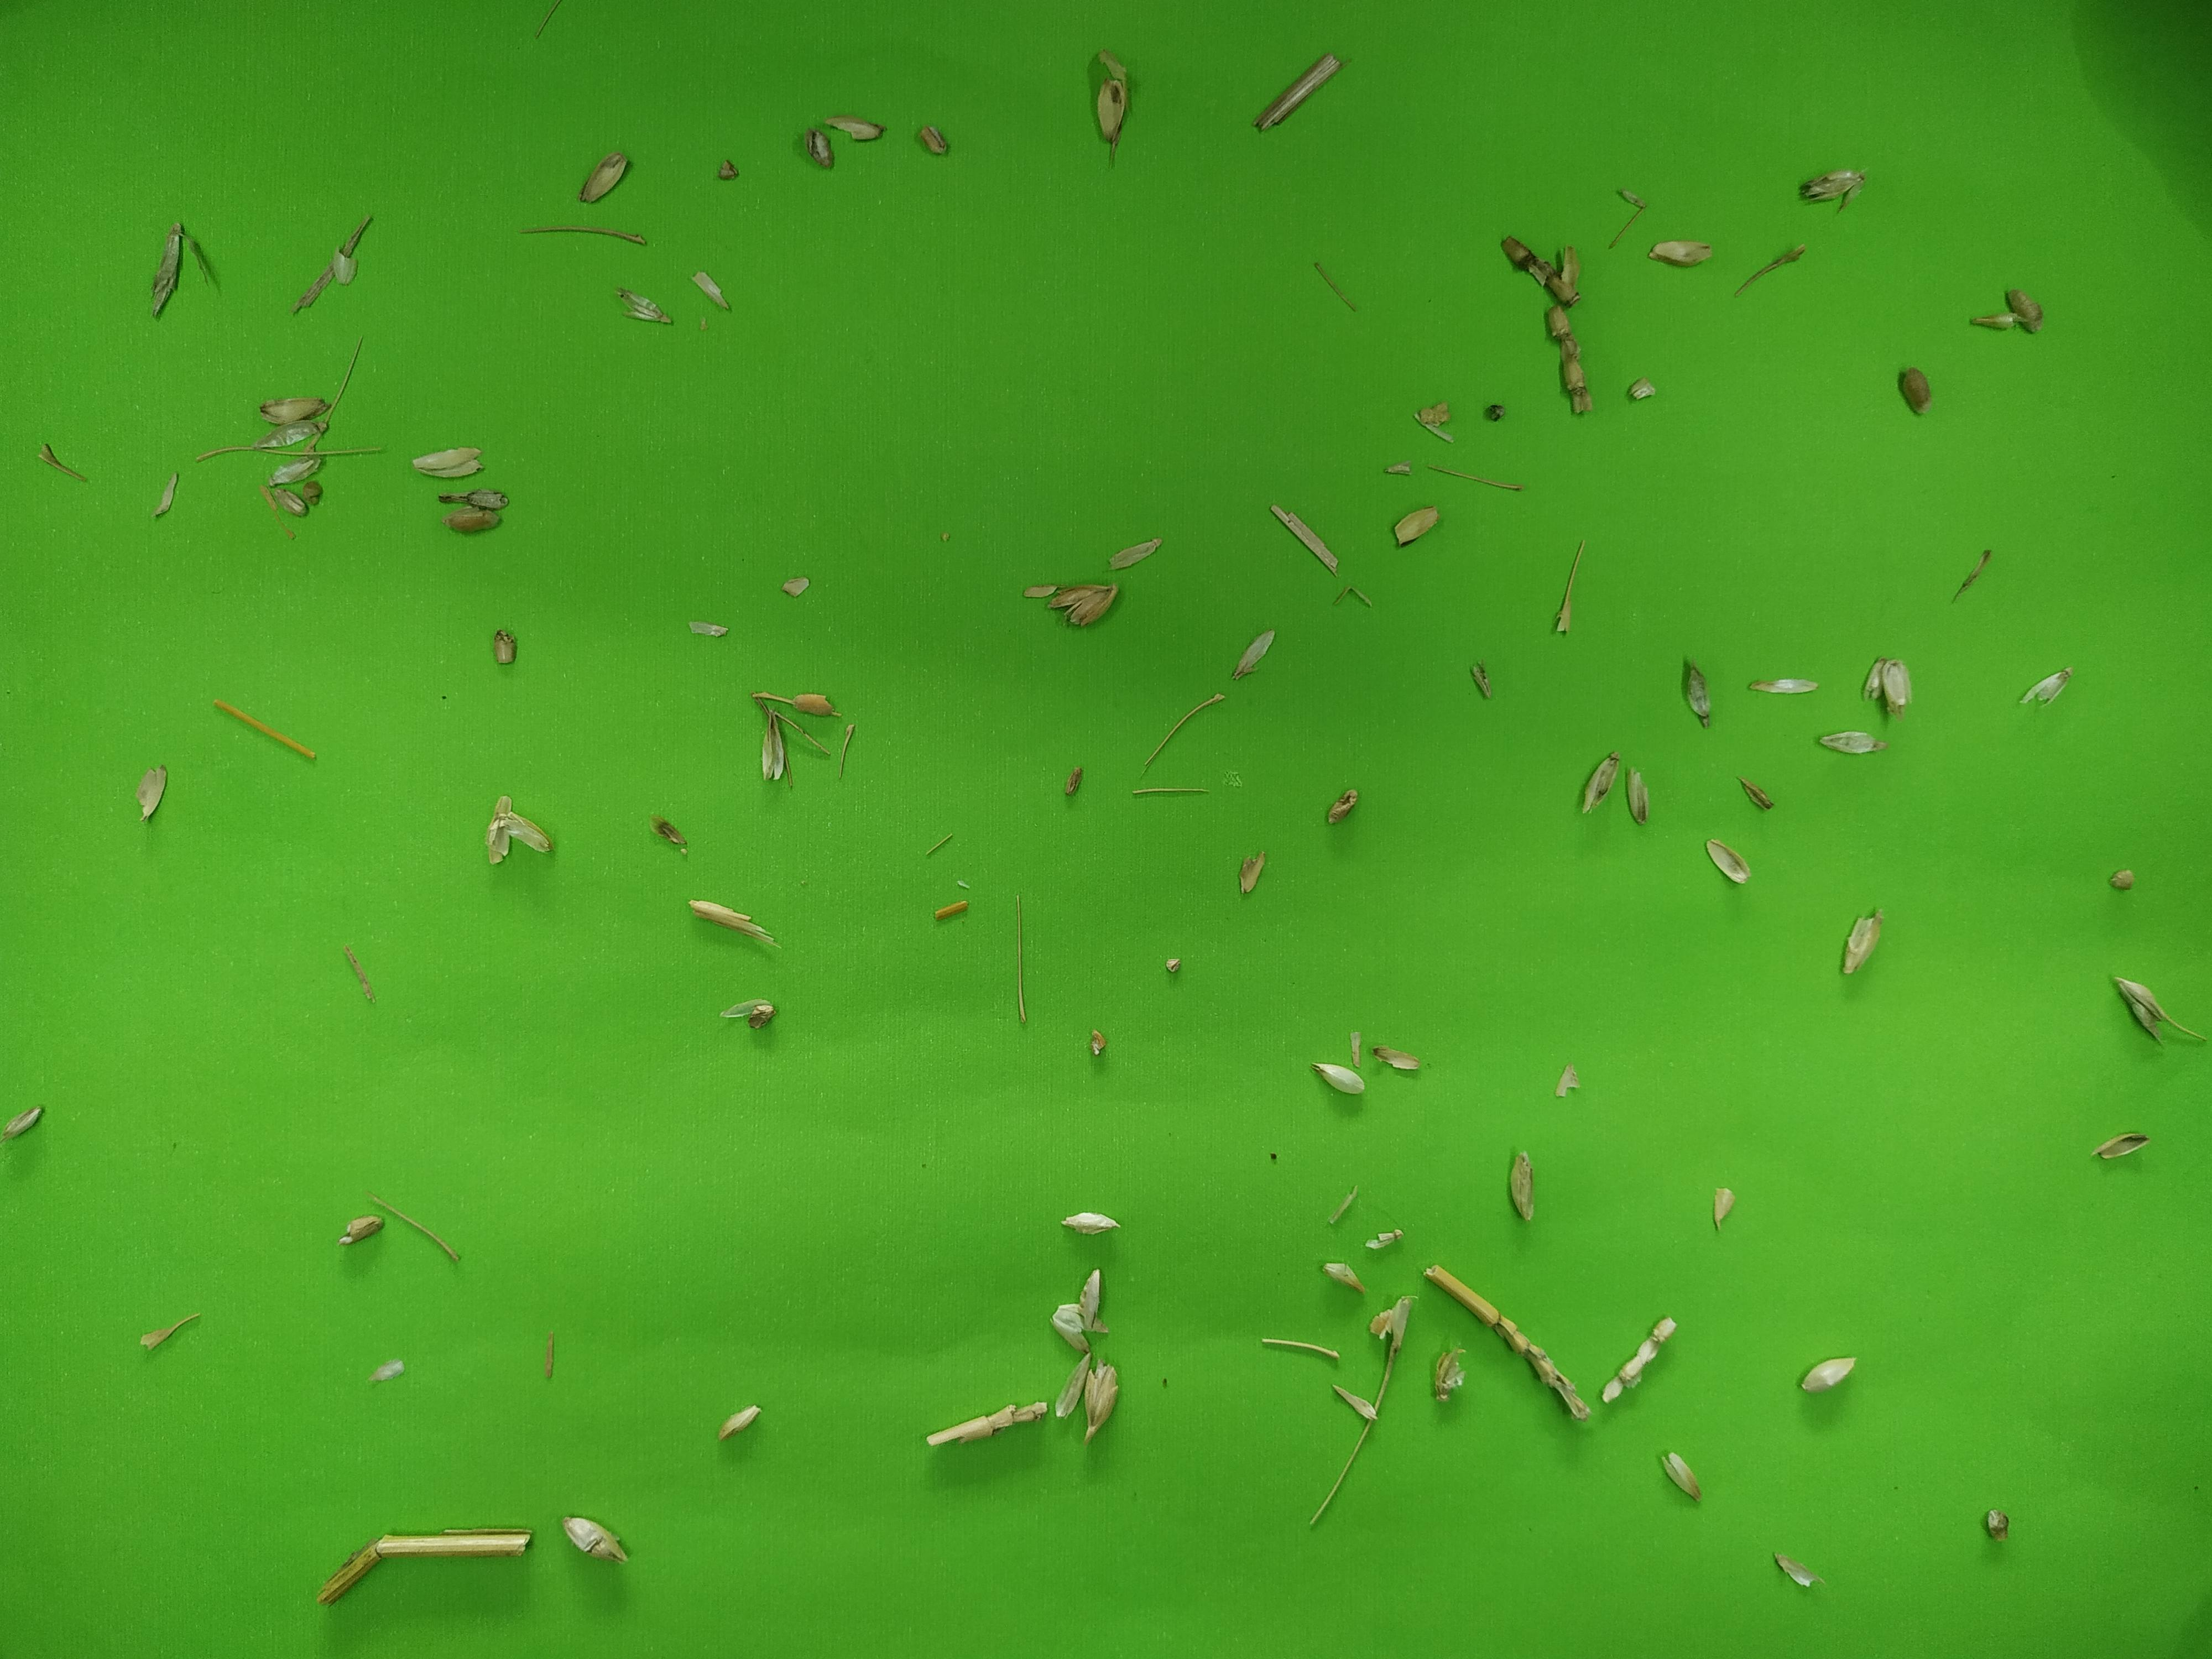impureza: (312, 1523, 533, 1610), (286, 209, 381, 326), (1251, 45, 1360, 136), (920, 1392, 1052, 1459), (1501, 1330, 1592, 1424), (1597, 1310, 1684, 1408), (1425, 1263, 1522, 1344), (2107, 972, 2207, 1049), (1308, 1425, 1378, 1525), (211, 697, 324, 758), (1541, 300, 1595, 422), (362, 1188, 458, 1255), (1144, 692, 1224, 770), (481, 795, 559, 871), (1500, 234, 1581, 307), (1090, 37, 1136, 162), (1268, 502, 1345, 573), (686, 896, 777, 951), (516, 223, 653, 260), (141, 220, 190, 322), (1733, 239, 1808, 298), (1834, 901, 1885, 985), (557, 1511, 632, 1567), (1796, 162, 1878, 213), (197, 441, 385, 462), (1078, 1358, 1123, 1439), (1552, 533, 1587, 640), (1366, 1290, 1420, 1358), (1050, 1345, 1099, 1420), (408, 443, 491, 484), (1792, 1349, 1864, 1398), (1055, 580, 1122, 633), (1862, 652, 1912, 720), (1252, 1328, 1345, 1364), (1676, 655, 1717, 735), (1421, 464, 1527, 495), (1655, 1445, 1707, 1507), (31, 434, 94, 486), (1698, 835, 1754, 892), (333, 335, 371, 416), (1503, 1147, 1540, 1232), (1573, 748, 1616, 819), (1071, 1265, 1116, 1333), (134, 1310, 207, 1352), (1949, 545, 1998, 608), (582, 148, 634, 206), (1388, 502, 1447, 552), (1012, 890, 1033, 1032), (1426, 1345, 1472, 1410), (1103, 533, 1170, 575), (711, 1399, 766, 1450), (256, 394, 333, 430), (1228, 627, 1277, 685), (1043, 1295, 1089, 1356), (341, 939, 380, 1011), (131, 756, 172, 821), (617, 289, 676, 335), (756, 713, 791, 789), (824, 110, 885, 153), (256, 484, 296, 551), (1770, 1553, 1834, 1593), (2015, 667, 2073, 711), (1313, 260, 1360, 312), (430, 483, 510, 512), (439, 500, 505, 535), (1055, 1206, 1122, 1241), (1815, 728, 1892, 758), (2008, 284, 2050, 336), (1740, 673, 1818, 701), (1327, 1382, 1381, 1422), (1646, 239, 1717, 268), (1329, 1180, 1367, 1234), (1618, 770, 1656, 823), (1312, 1060, 1364, 1098), (690, 268, 735, 312), (336, 1211, 392, 1246), (1897, 362, 1932, 416), (0, 1101, 49, 1140), (153, 467, 186, 523), (1609, 204, 1651, 247), (648, 812, 693, 852), (266, 455, 327, 484), (721, 995, 777, 1026), (1977, 1504, 2017, 1547), (2095, 1131, 2153, 1161), (1710, 1180, 1740, 1237), (799, 124, 834, 173), (834, 720, 860, 784), (1322, 782, 1359, 828), (535, 1323, 563, 1380), (913, 118, 949, 162), (1318, 1260, 1364, 1295), (1237, 847, 1266, 899), (1371, 1044, 1420, 1075), (786, 688, 834, 720), (1325, 584, 1376, 613), (1968, 310, 2029, 335), (1737, 774, 1775, 812), (775, 568, 819, 601), (686, 613, 732, 645), (488, 624, 519, 669), (1359, 1229, 1409, 1256), (275, 486, 315, 521), (1015, 575, 1062, 605), (1127, 784, 1214, 800), (1413, 411, 1458, 441), (1548, 1063, 1583, 1101), (366, 1354, 408, 1385), (918, 831, 961, 861), (744, 685, 789, 713), (1413, 397, 1454, 427), (1625, 371, 1658, 408), (932, 894, 972, 924), (1345, 1021, 1367, 1073), (1057, 762, 1089, 798), (1467, 662, 1494, 701), (2107, 866, 2139, 897), (1378, 1359, 1402, 1399), (1083, 1026, 1111, 1060), (716, 155, 742, 183), (1383, 457, 1413, 477), (1486, 401, 1510, 425), (1613, 190, 1644, 207), (307, 479, 326, 498), (1165, 955, 1183, 974), (1813, 730, 1817, 730)
